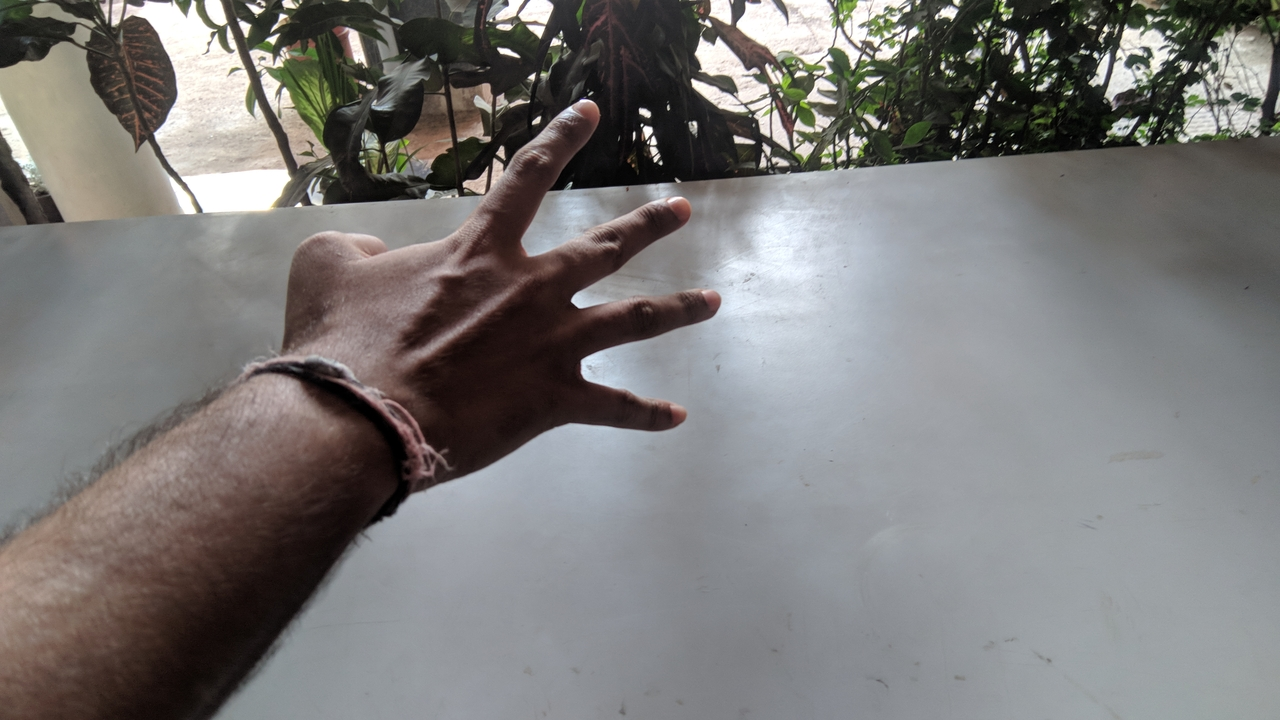fingertip: (550, 86, 602, 134), (642, 182, 696, 228), (678, 284, 725, 321), (660, 390, 694, 434)
